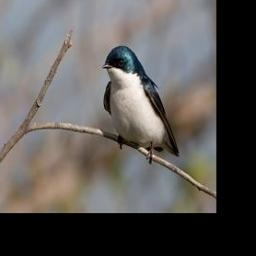Swallow: (103, 44, 180, 165)
